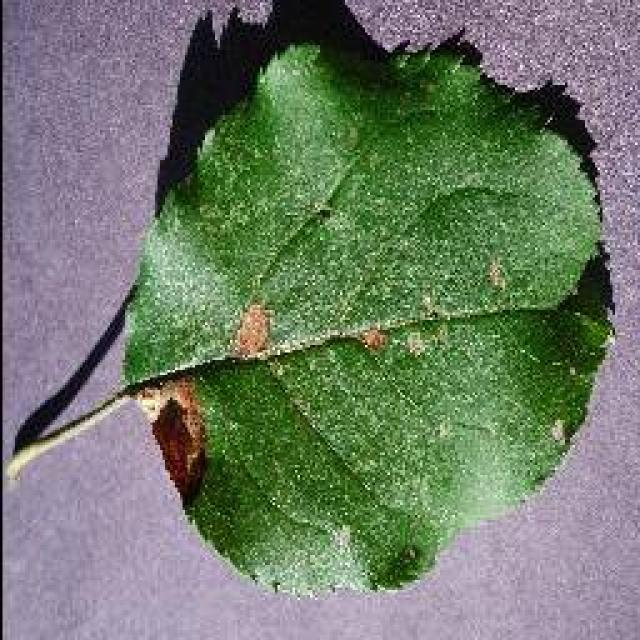Black_rot: (7, 8, 615, 598)
